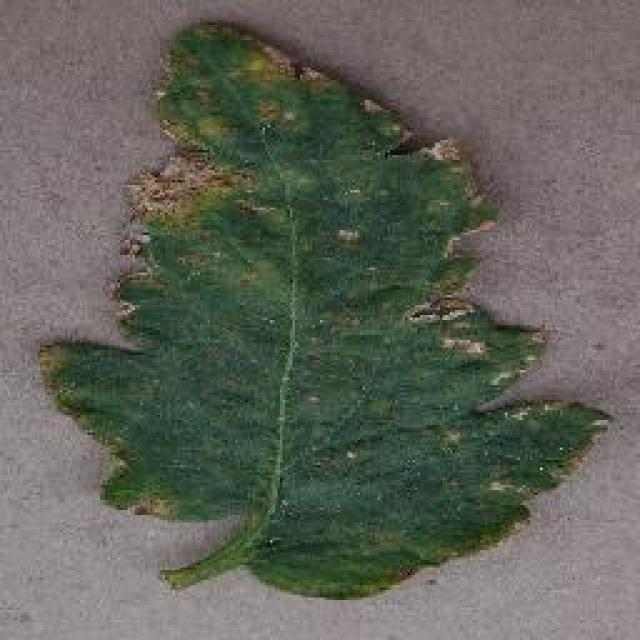Tomato bacterial spot leaf: (31, 11, 618, 606)
